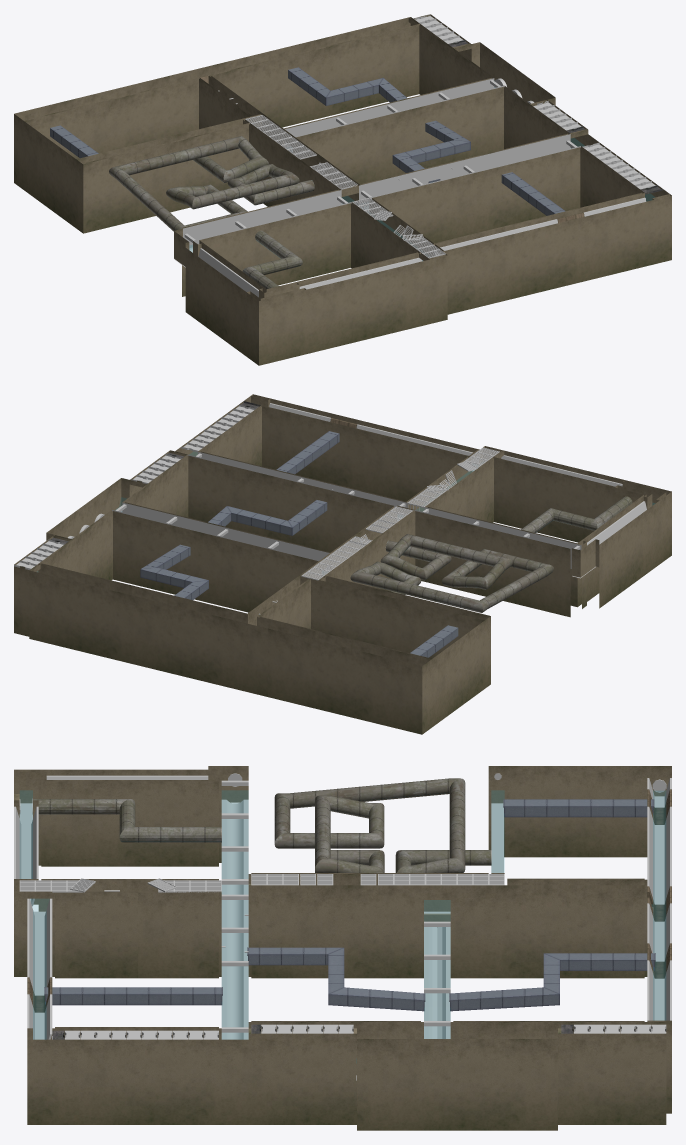
Rendered from fix - texture (1).fbx.
3 views of the same model, one above another, from view 1: azimuth 30°, elevation 25°; view 2: azimuth 150°, elevation 25°; view 3: azimuth 270°, elevation 25° (orthographic). The views are drawn at different scales.
Visible parts, largest first — view 1: Wall, TunnelB, TunnelA, polySurface2; view 2: Wall, TunnelB, TunnelA, polySurface2; view 3: Wall, Water, TunnelB, TunnelA, polySurface2, V_Drain, block.
Part boxes in pixels (x1,y1,x2,y2): Wall: (14,14,671,365); TunnelB: (109,136,314,289); TunnelA: (50,67,565,215); polySurface2: (235,78,580,229); Wall: (14,394,671,734); TunnelB: (350,496,632,612); TunnelA: (140,431,458,657); polySurface2: (112,452,529,574); Wall: (14,766,671,1130); Water: (20,791,665,1038); TunnelB: (33,778,491,872); TunnelA: (44,799,655,1011); polySurface2: (221,834,450,1038); V_Drain: (27,789,671,1012); block: (19,803,503,1080).
Size of the model in its own units: 38084 by 5961 by 38451.
